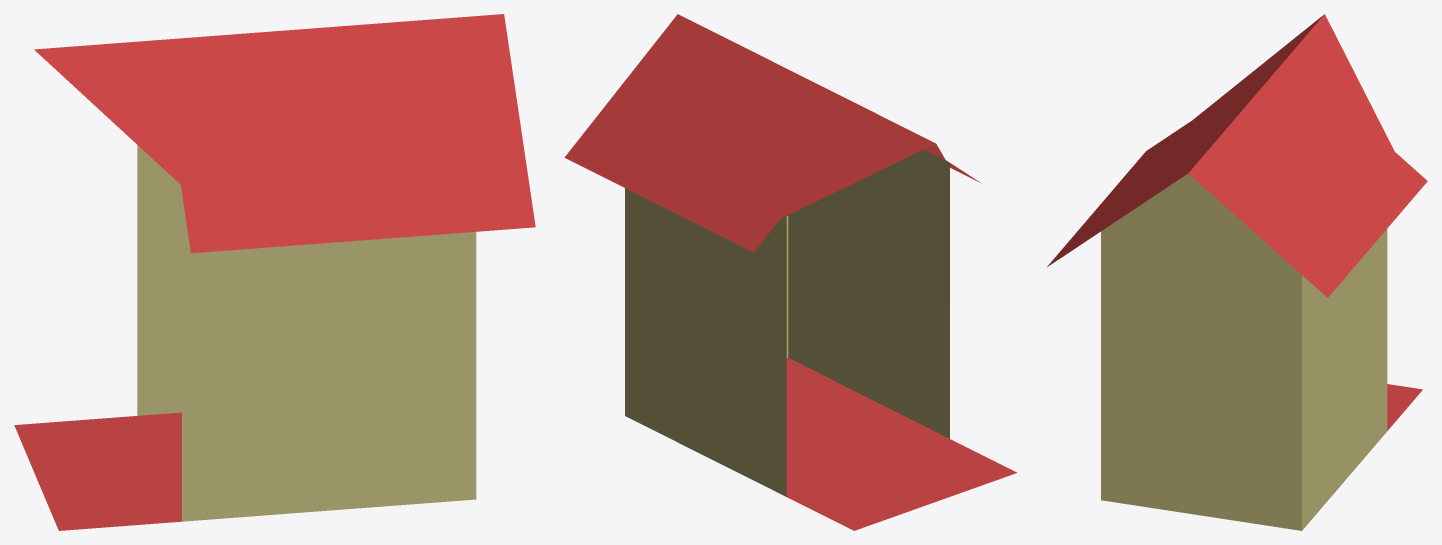
3 views of the same model, side by side, from view 1: azimuth 30°, elevation 25°; view 2: azimuth 150°, elevation 25°; view 3: azimuth 270°, elevation 25° (orthographic). The views are drawn at different scales.
Size of the model in its own units: 16.15 by 13.33 by 13.85.
